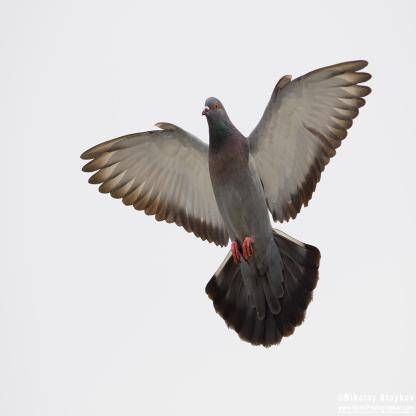Flying Rat: (77, 49, 386, 366)
